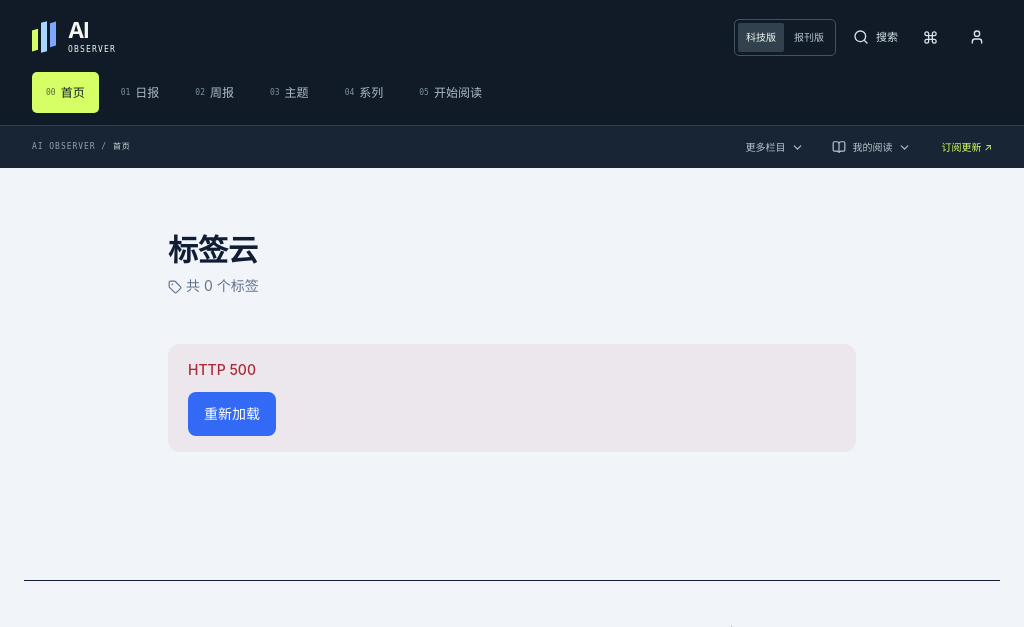
failed loads are not disguised as empty states › TagsPage shows an error with a retry instead of 暂无标签
Expected: the message shows "HTTP 500", [188,361,256,378]
Click the button "重新加载" at (232,414), box [188,392,276,436]
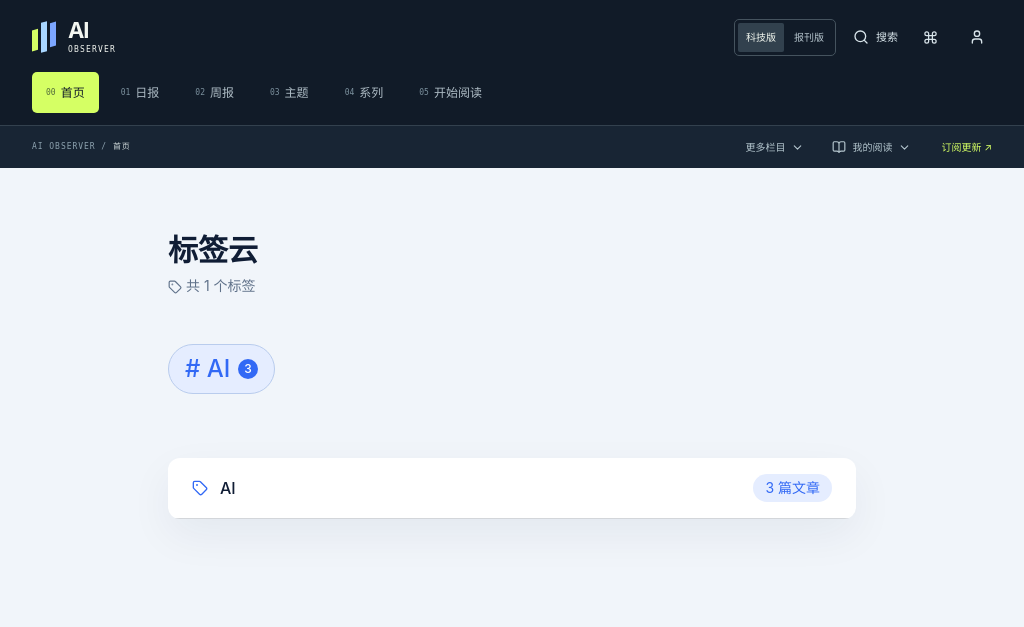
Expected: the message "HTTP 500 重新加载" is gone
